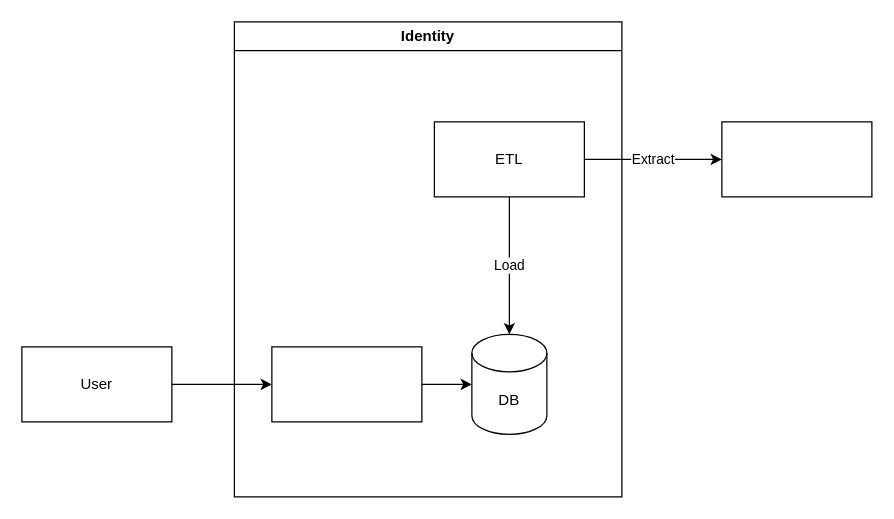
The diagram is 894 pixels wide and 519 high, and some of its shapes have lost their labels. Here are the shapes that lost their labels. From the top down, the centre of each, then its label:
At [796,159]: "External Services".
At [346,384]: "Api".
